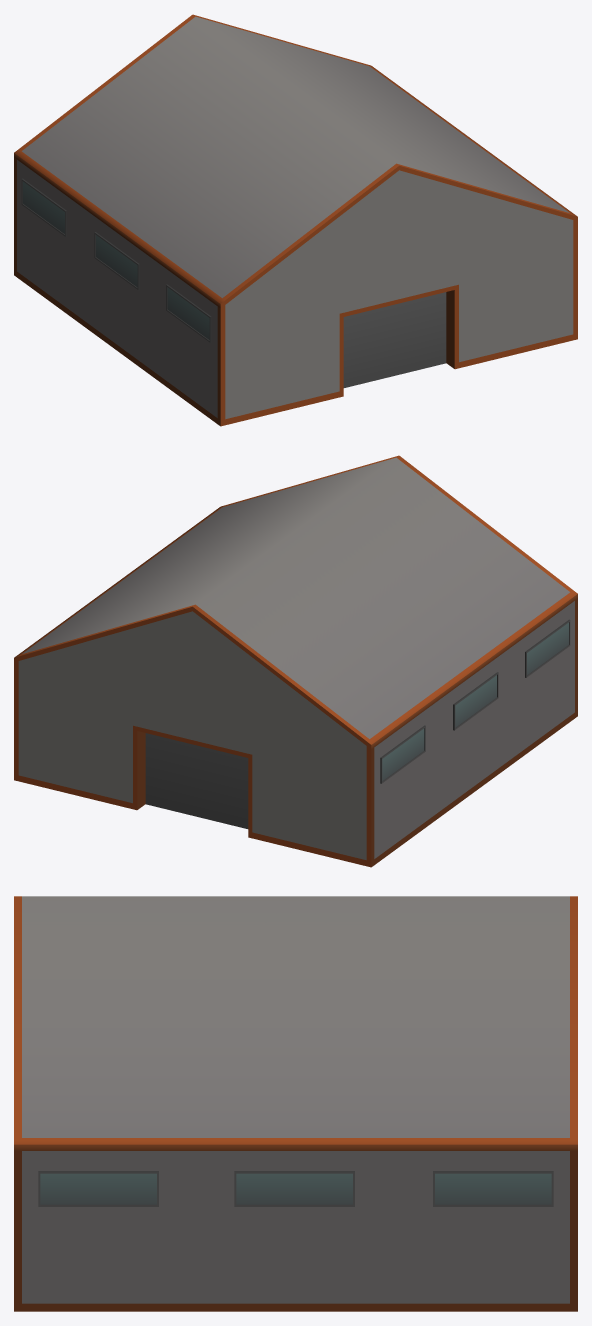
Rendered from buildings-industrial-warehouse_v3.glb.
The picture shows the model from 3 angles, top to bottom: view 1: azimuth 30°, elevation 25°; view 2: azimuth 150°, elevation 25°; view 3: azimuth 270°, elevation 25°; orthographic projection. The views are drawn at different scales.
Visible parts, largest first — view 1: Warehouse_v3_base, Warehouse_v3_windowRefl; view 2: Warehouse_v3_base, Warehouse_v3_windowRefl; view 3: Warehouse_v3_base, Warehouse_v3_windowRefl.
Boxes of the visible parts, bbox=[...] form: Warehouse_v3_base: bbox=[14, 14, 577, 426]; Warehouse_v3_windowRefl: bbox=[23, 181, 209, 339]; Warehouse_v3_base: bbox=[14, 455, 577, 867]; Warehouse_v3_windowRefl: bbox=[382, 622, 568, 780]; Warehouse_v3_base: bbox=[14, 896, 577, 1311]; Warehouse_v3_windowRefl: bbox=[40, 1173, 551, 1204].
Bounding box in the file's own units: 23.51 × 13.55 × 23.35.
